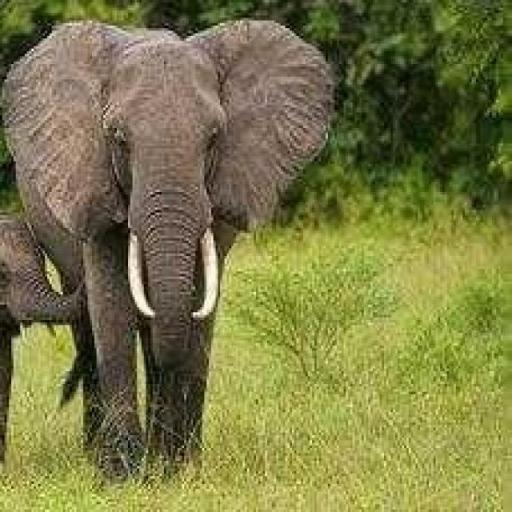Elephant: (0, 15, 334, 484), (0, 207, 97, 474)
